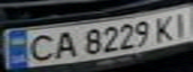2: (100, 22, 124, 54), (118, 20, 139, 52)
8: (78, 25, 106, 56)
9: (133, 17, 157, 47)
A: (48, 29, 81, 61)
C: (18, 31, 60, 64)
I: (166, 7, 193, 38)
K: (151, 12, 181, 43)
